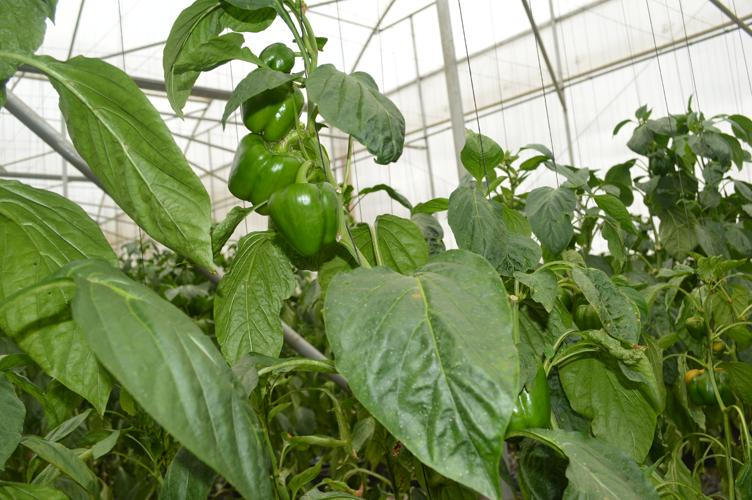BellPepper: (265, 178, 355, 267), (218, 131, 297, 211), (503, 362, 561, 445), (237, 68, 301, 140), (682, 356, 732, 408), (572, 296, 605, 343)
